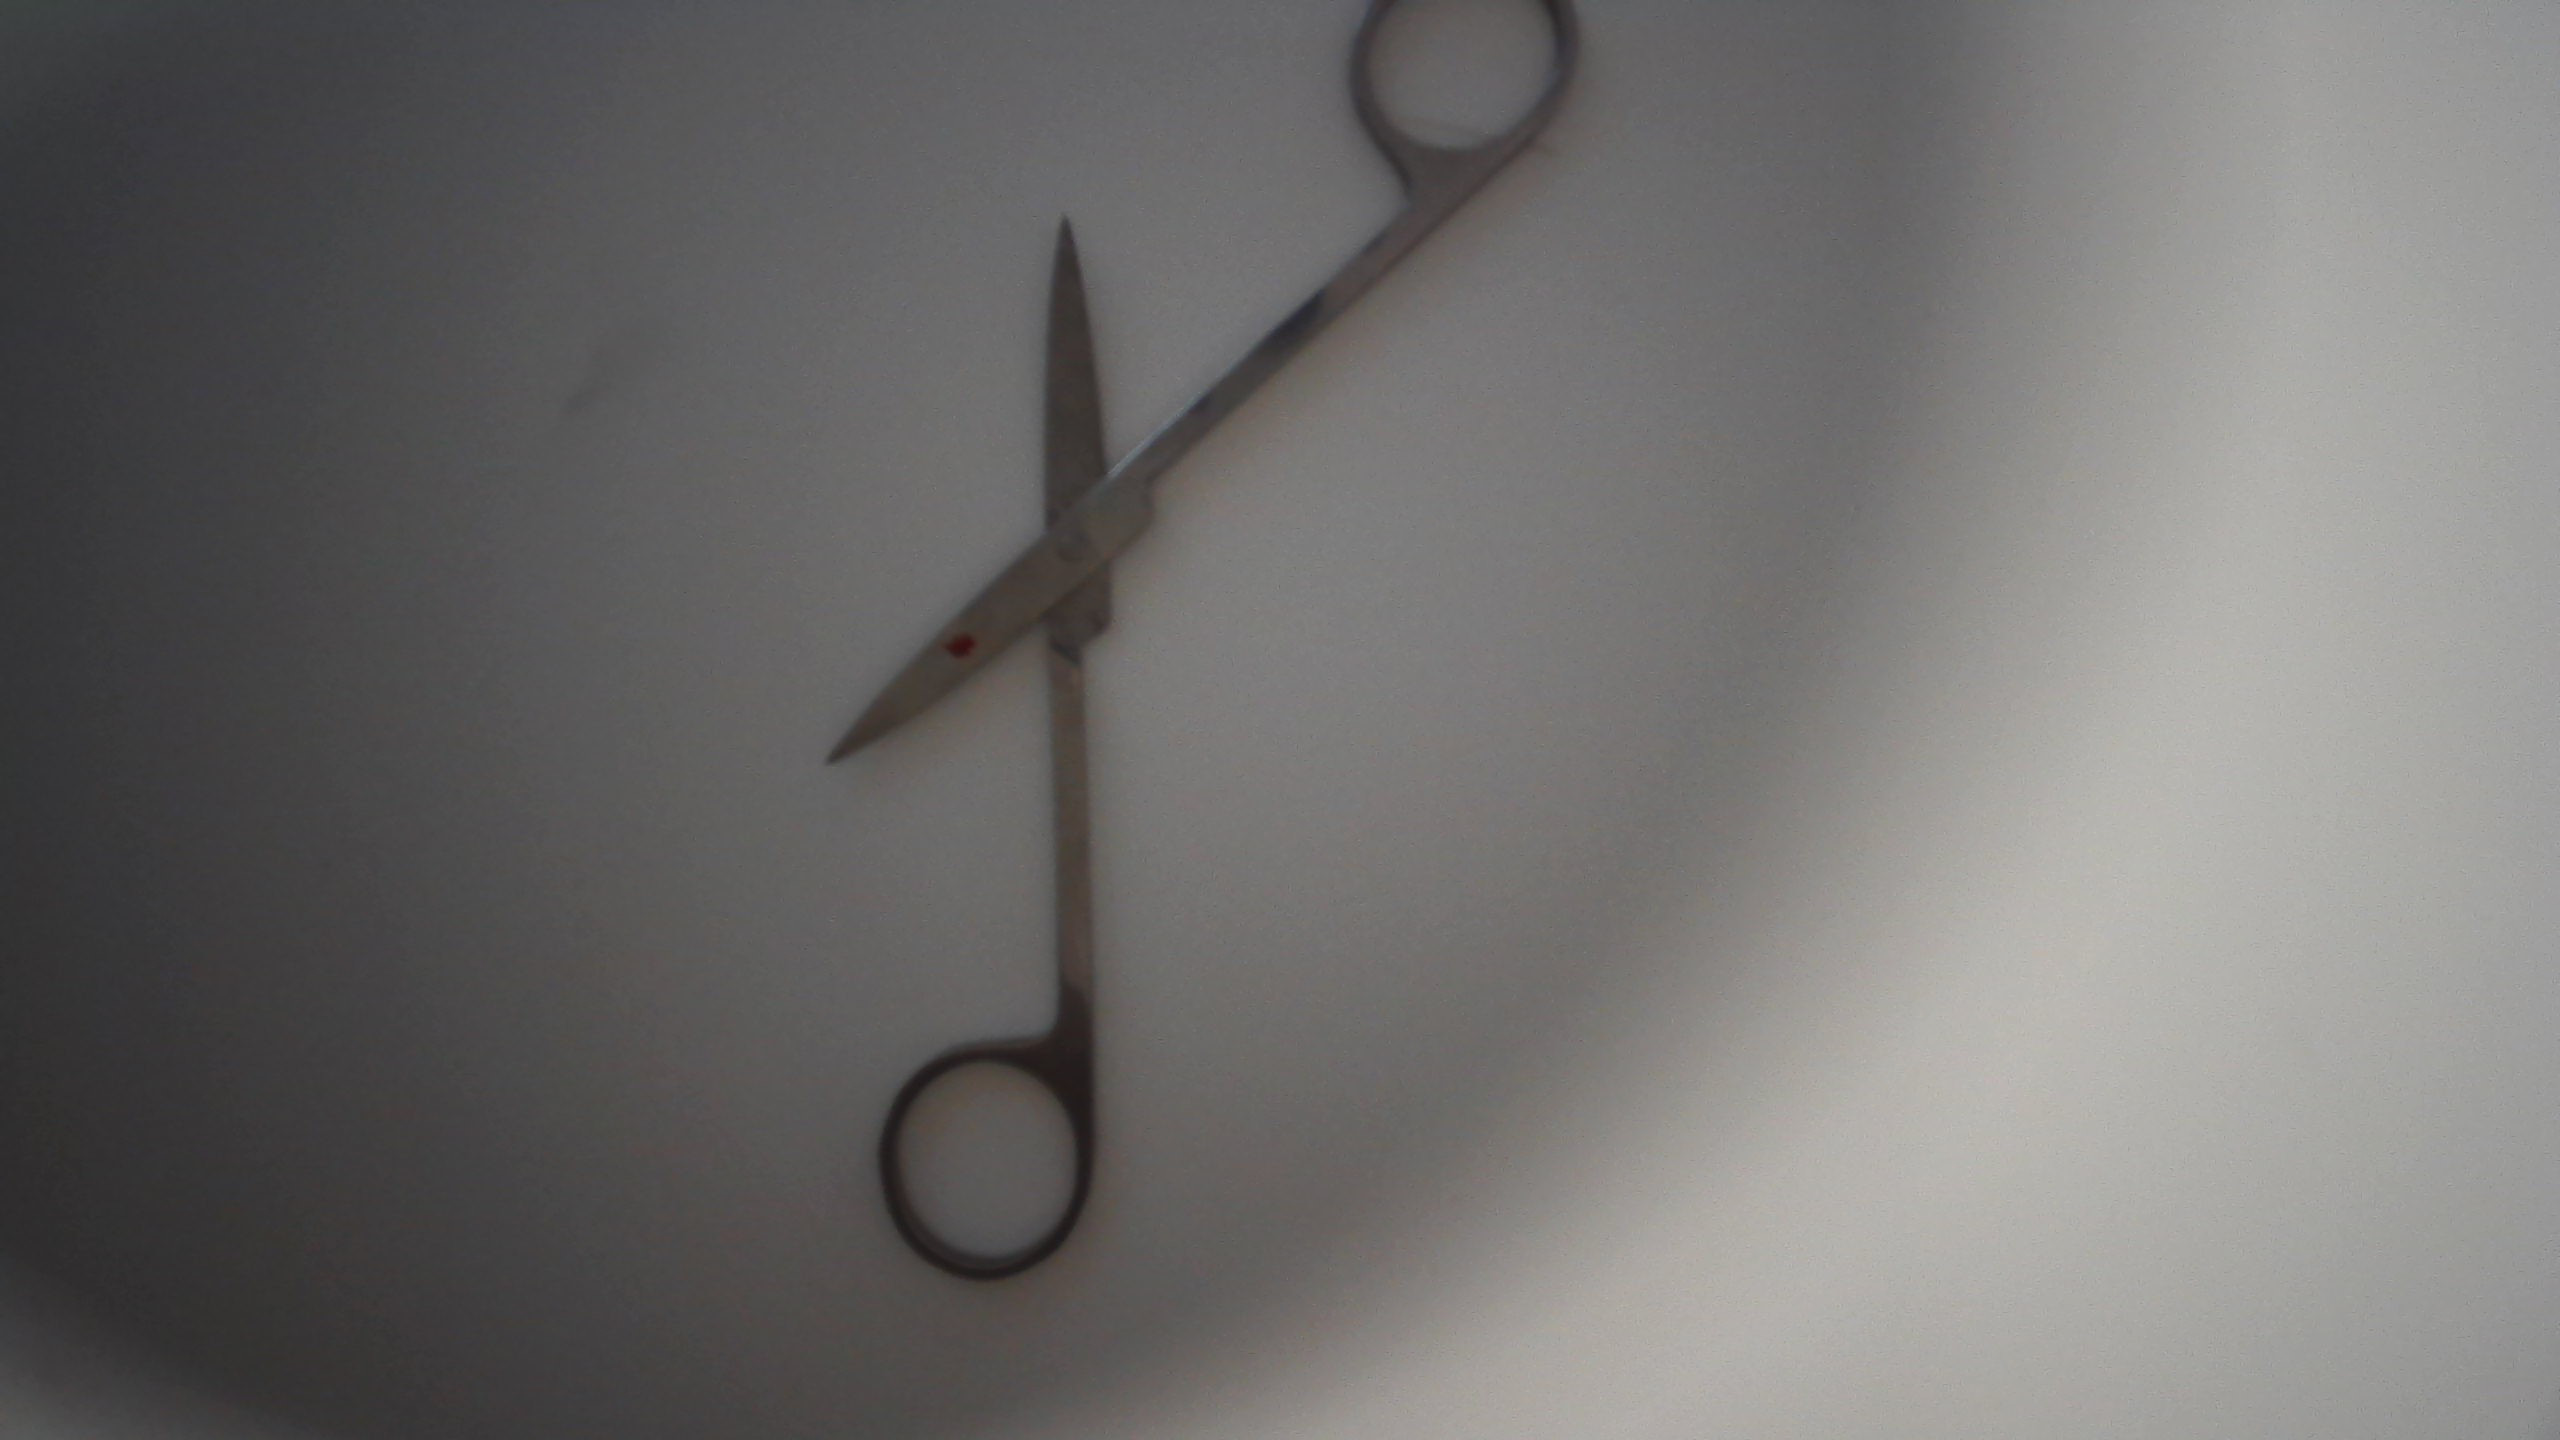Stain: (937, 617, 993, 656)
